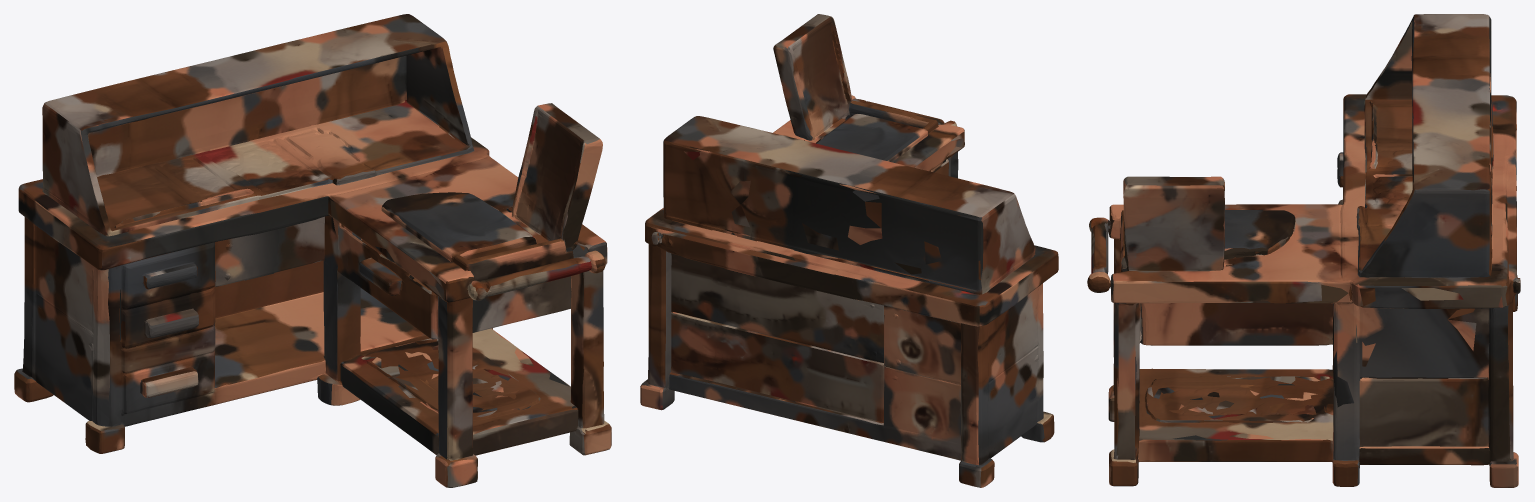
File: SaladStation.fbx
3 renders of one model, left to right at view 1: azimuth 30°, elevation 25°; view 2: azimuth 150°, elevation 25°; view 3: azimuth 270°, elevation 25°, orthographic. The views are drawn at different scales.
Visible parts, largest first — view 1: world; view 2: world; view 3: world.
Part boxes in pixels (x1,y1,x2,y2): world: [14, 14, 611, 487]; world: [640, 14, 1058, 487]; world: [1087, 14, 1520, 487].
Bounding box in the file's own units: 99.47 × 73.63 × 95.79.
